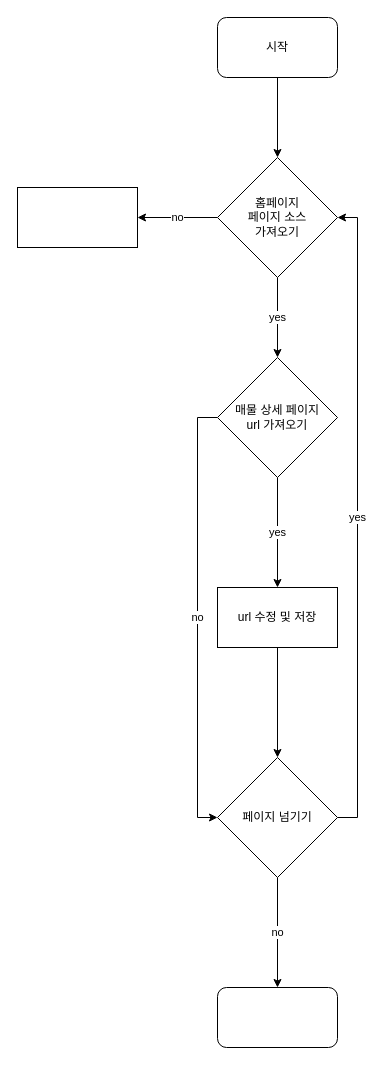
The diagram is 383 pixels wide and 1065 high, and some of its shapes have lost their labels. The box of each missing label's shape, as (x1, y1, x2, y2) in pixels:
빈 리스트 반환: (16, 186, 138, 248)
종료: (216, 986, 338, 1048)
